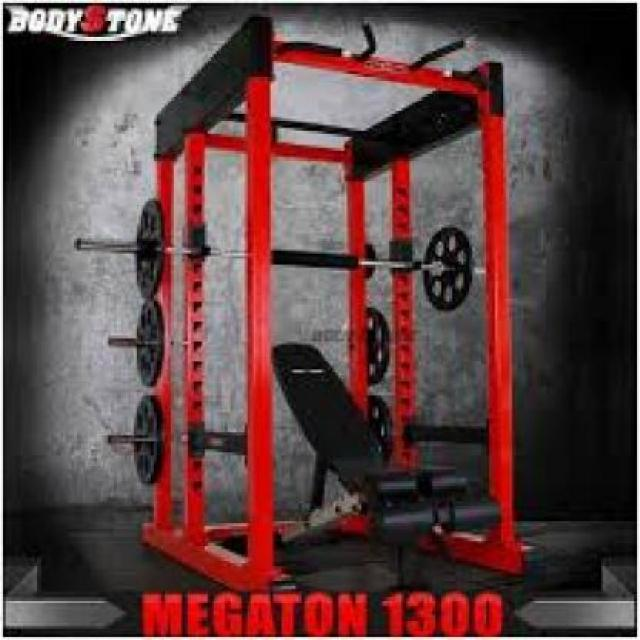smith machine: (80, 42, 526, 589)
